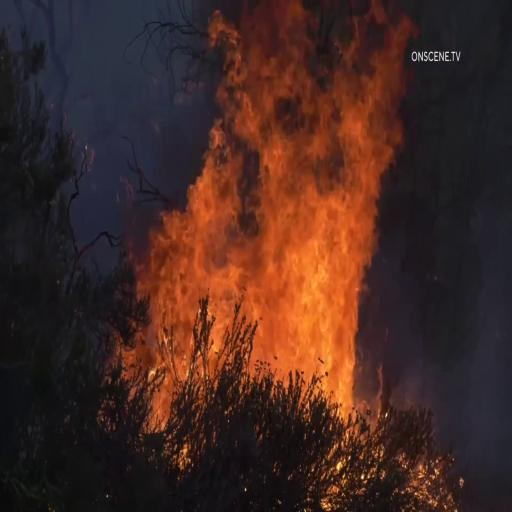fire: (134, 8, 388, 430)
